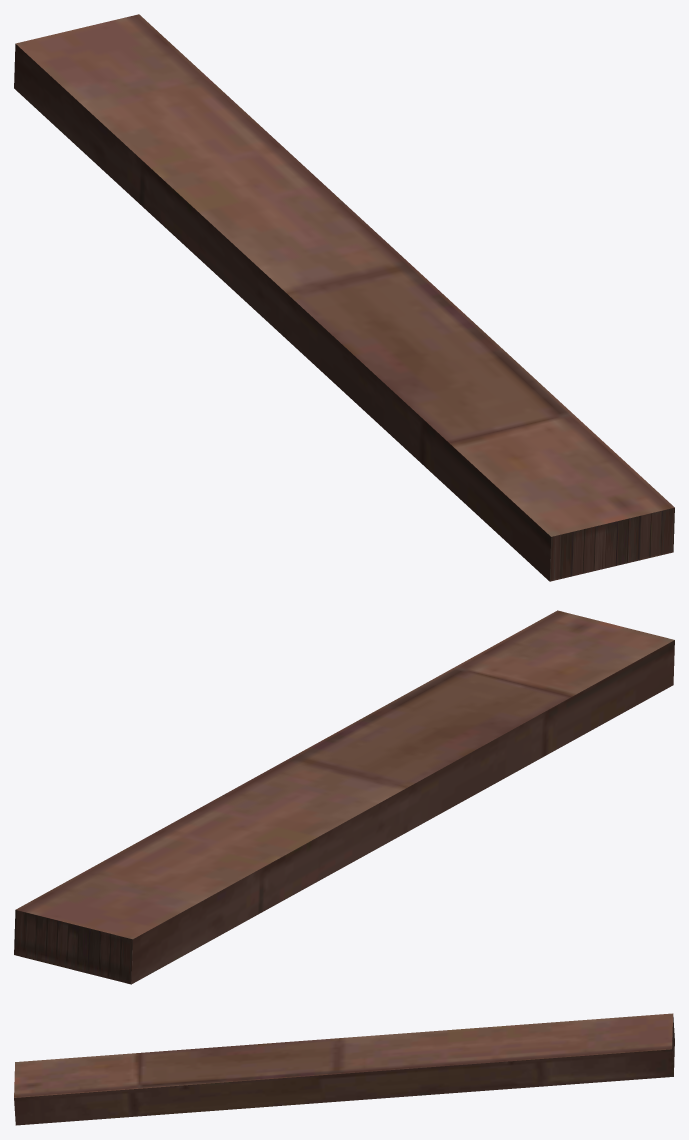
The model's file is woodBlock2 (52).fbx.
The picture shows the model from 3 angles, top to bottom: view 1: azimuth 30°, elevation 25°; view 2: azimuth 150°, elevation 25°; view 3: azimuth 270°, elevation 25°; orthographic projection. The views are drawn at different scales.
Visible parts, largest first — view 1: woodBlock2 (52); view 2: woodBlock2 (52); view 3: woodBlock2 (52).
Part boxes in pixels (x1,y1,x2,y2): woodBlock2 (52): (14,14,674,581); woodBlock2 (52): (14,610,674,984); woodBlock2 (52): (14,1013,674,1125).
Size of the model in its own units: 10.17 by 9.53 by 71.23.
